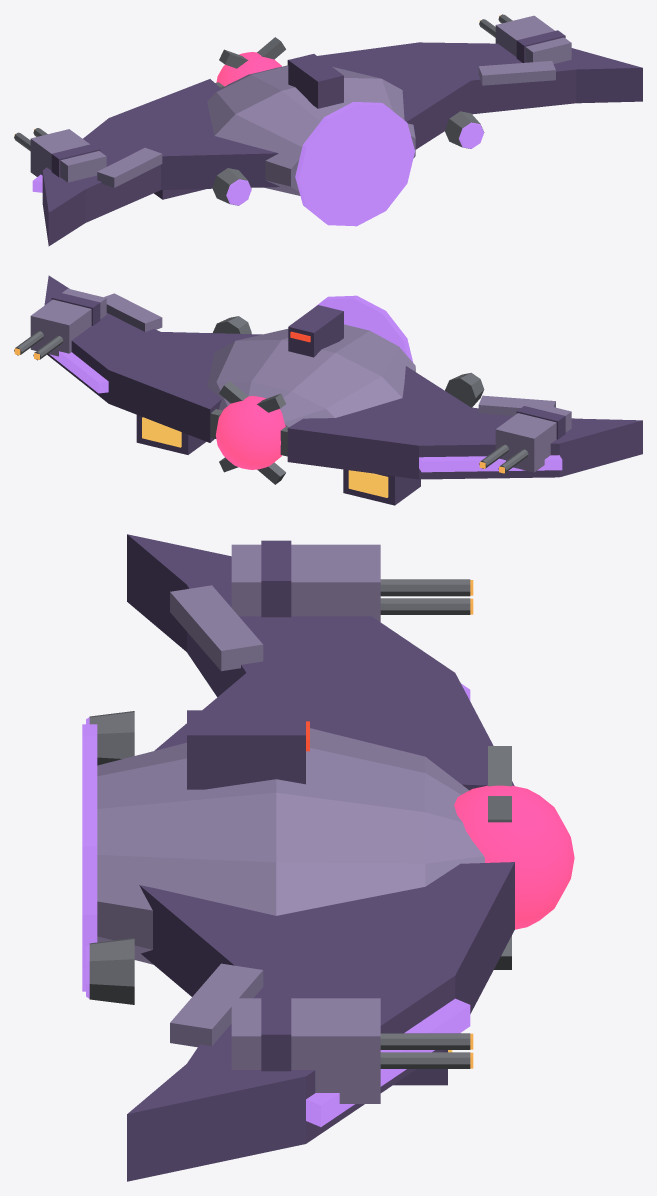
The model's file is boss.glb.
3 views of the same model, one above another, from view 1: azimuth 30°, elevation 25°; view 2: azimuth 150°, elevation 25°; view 3: azimuth 270°, elevation 25° (orthographic). The views are drawn at different scales.
Visible parts, largest first — view 1: mothership, part_wingL, part_wingR, part_core.001; view 2: mothership, part_core.001, part_wingL, part_wingR, part_bayL, part_bayR; view 3: mothership, part_wingR, part_wingL, part_core.001.
Boxes of the visible parts, box(x1,y1,x2,y2) form: mothership: box(32, 42, 642, 246); part_wingL: box(14, 128, 106, 182); part_wingR: box(479, 14, 571, 63); part_core.001: box(215, 37, 287, 88); mothership: box(44, 275, 642, 479); part_core.001: box(210, 381, 288, 484); part_wingL: box(479, 402, 571, 473); part_wingR: box(14, 288, 106, 360); part_bayL: box(343, 469, 420, 505); part_bayR: box(136, 415, 205, 454); mothership: box(82, 534, 514, 1181); part_wingR: box(231, 994, 473, 1103); part_wingL: box(231, 540, 473, 621); part_core.001: box(454, 746, 574, 969).
Bounding box in the file's own units: 92 × 19 × 33.
